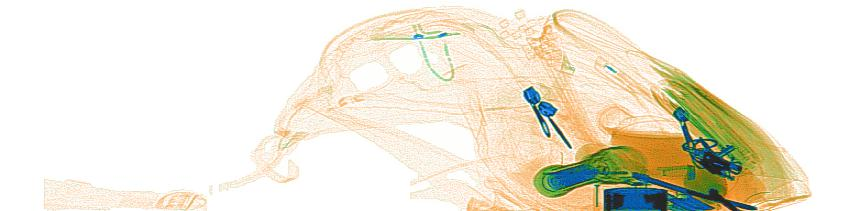battery: (544, 160, 599, 191)
